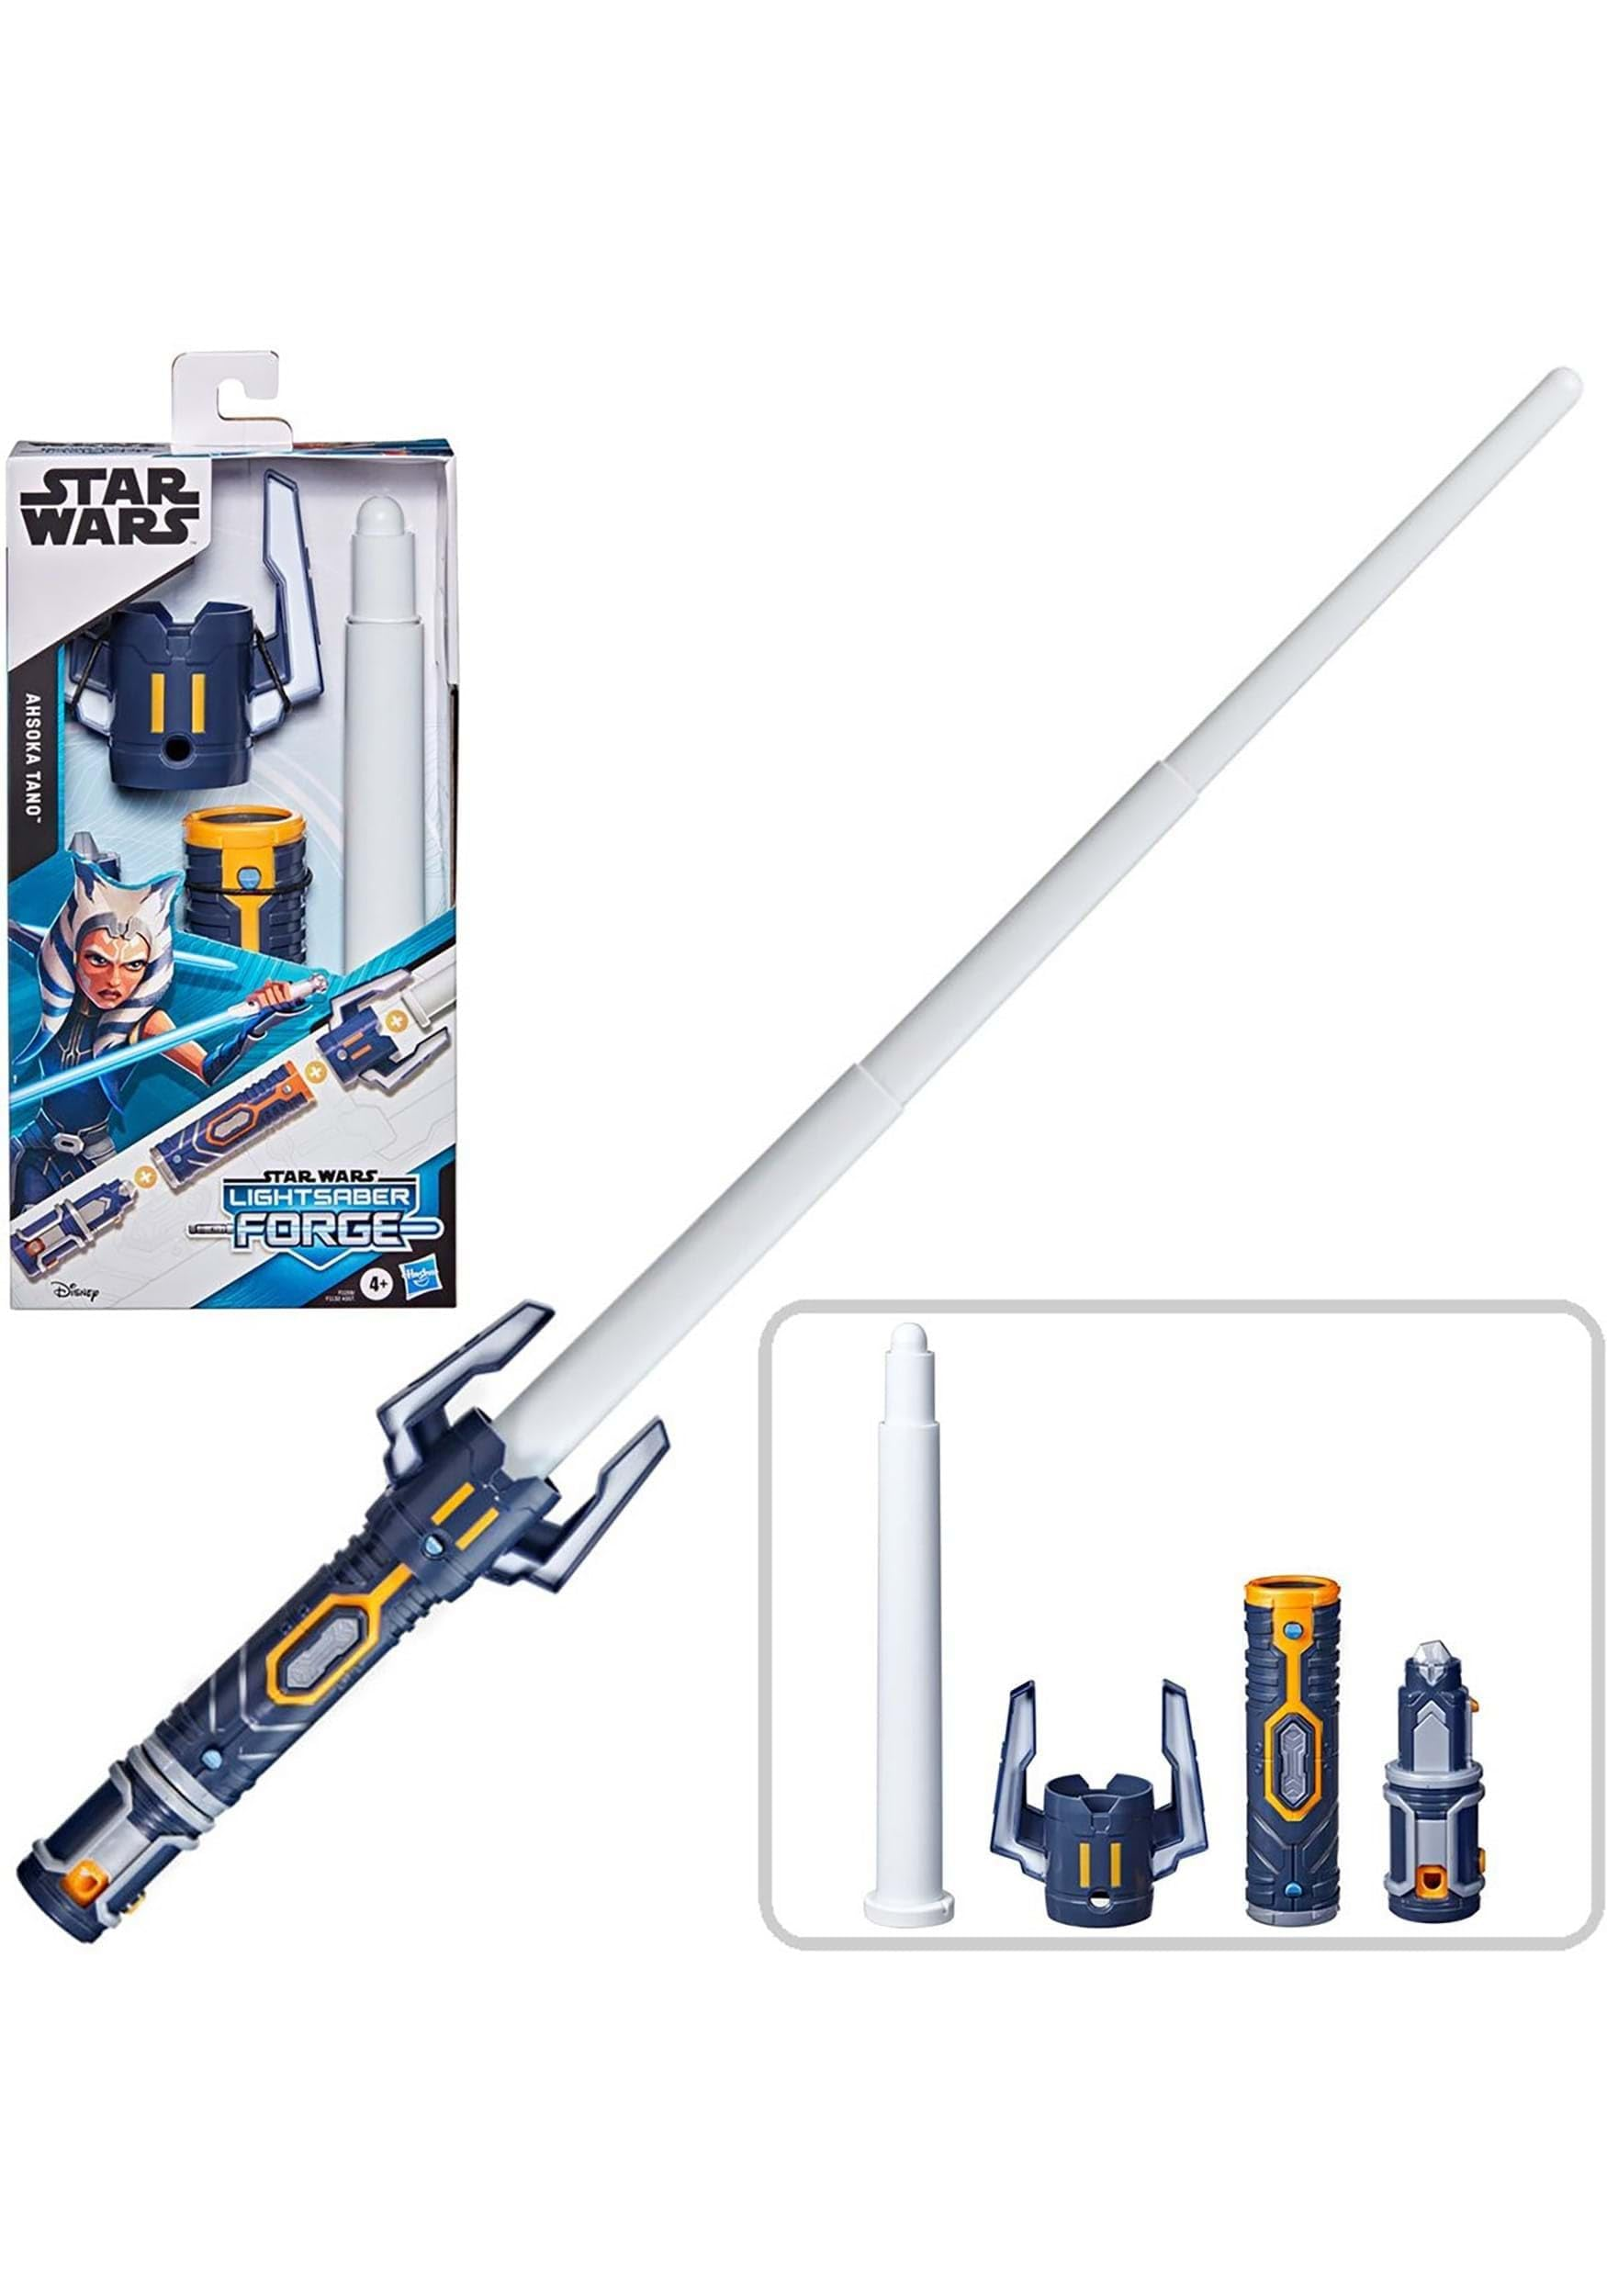lightsaber: (99, 447, 1380, 2006)
